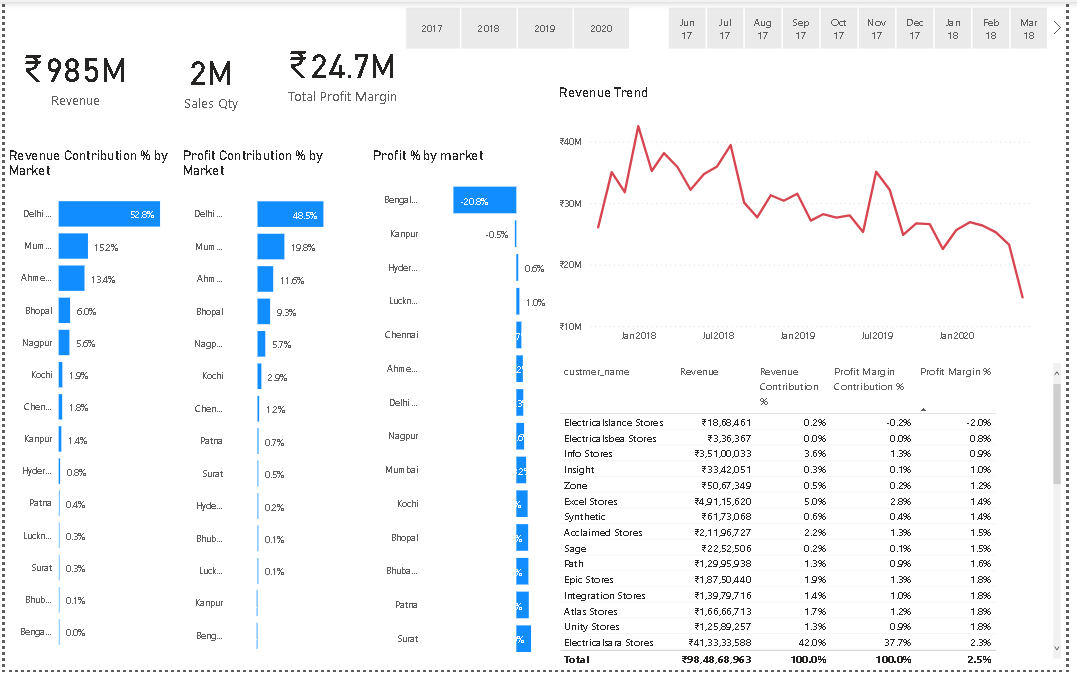

The page's visual inventory and layout, read from the dashboard file:
{"tool":"powerbi","page":{"name":"Profit Analysis","canvas":[1350,850],"ordinal":1},"visuals":[{"type":"card","fields":{"Values":["BaseMeasures (2).Revenue"]},"box":[0,0,179.6,184.8],"z":0},{"type":"card","fields":{"Values":["BaseMeasures (2).Sales Qty"]},"box":[179.6,0,164.1,193],"z":1000},{"type":"barChart","title":"Profit % by market","fields":{"Y":["BaseMeasures (2).Profit Margin %"],"Category":["sales markets.markets_name"]},"box":[418.6,184.3,275.7,665.7],"z":2000},{"type":"barChart","title":"Profit Contribution % by Market","fields":{"Y":["BaseMeasures (2).Profit Margin Contribution %"],"Category":["sales markets.markets_name"]},"box":[220,185.7,198.6,660],"z":3000},{"type":"slicer","fields":{"Values":["sales date.year"]},"box":[483.2,0,335.5,66.5],"z":4000},{"type":"slicer","fields":{"Values":["sales date.cy_date"]},"box":[818.6,0,531.7,66.5],"z":5000},{"type":"tableEx","title":"Top 5 Customers","fields":{"Values":["sales customers.custmer_name","BaseMeasures (2).Revenue","BaseMeasures (2).Revenue Contribution %","BaseMeasures (2).Profit Margin Contribution %","BaseMeasures (2).Profit Margin %"]},"box":[701.9,454.2,648.3,395.4],"z":6000},{"type":"lineChart","title":"Revenue Trend","fields":{"Y":["BaseMeasures (2).Revenue"],"Category":["sales date.cy_date"]},"box":[701.9,104.3,621.4,338.6],"z":7000},{"type":"card","fields":{"Values":["BaseMeasures (2).Total Profit Margin"]},"box":[349.9,0,161,176.5],"z":8000},{"type":"barChart","title":"Revenue Contribution % by Market","fields":{"Y":["BaseMeasures (2).Revenue Contribution %"],"Category":["sales markets.markets_name"]},"box":[0,185.8,219.9,654.5],"z":9000}]}

Visuals, with their boxes in screenshot pixels (x1, y1, x2, y2), scaled from the page's 1350x850 canvas onto the 1077x673 screenshot:
card - BaseMeasures (2).Revenue: bbox=(0, 0, 143, 146)
card - BaseMeasures (2).Sales Qty: bbox=(143, 0, 274, 153)
"Profit % by market" barChart: bbox=(334, 146, 554, 672)
"Profit Contribution % by Market" barChart: bbox=(176, 147, 334, 670)
slicer - sales date.year: bbox=(385, 0, 653, 53)
slicer - sales date.cy_date: bbox=(653, 0, 1076, 53)
"Top 5 Customers" tableEx: bbox=(560, 360, 1076, 672)
"Revenue Trend" lineChart: bbox=(560, 83, 1056, 351)
card - BaseMeasures (2).Total Profit Margin: bbox=(279, 0, 408, 140)
"Revenue Contribution % by Market" barChart: bbox=(0, 147, 175, 665)
